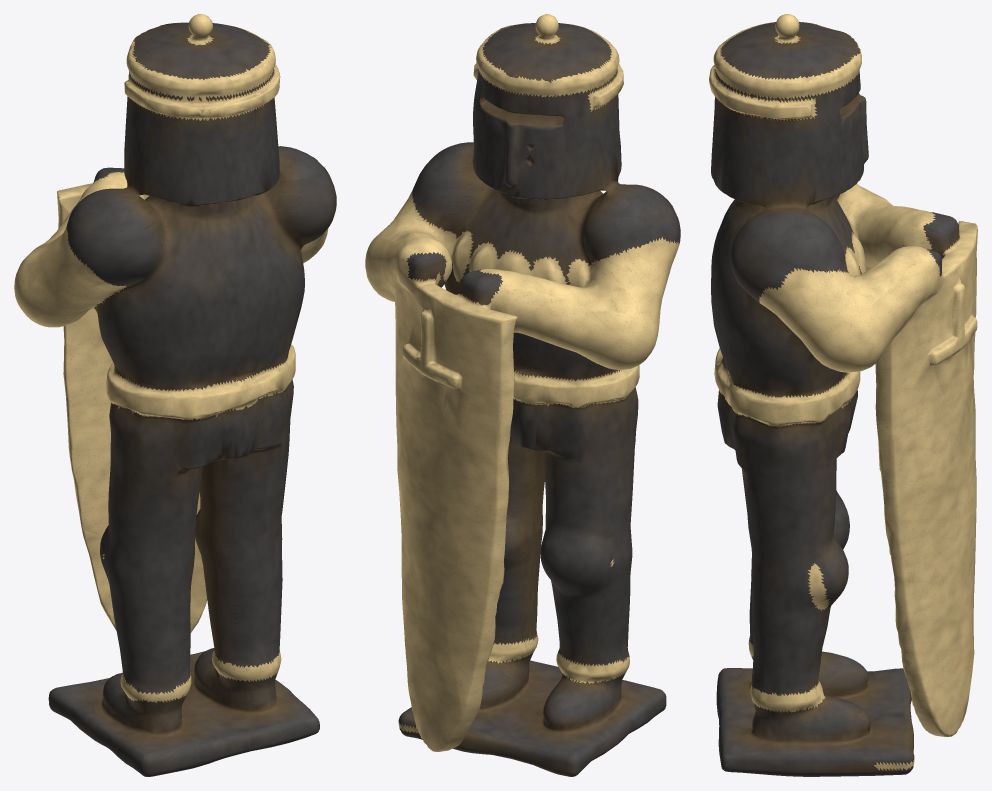
The model's file is knight-black-hd.glb.
3 views of the same model, side by side, from view 1: azimuth 30°, elevation 25°; view 2: azimuth 150°, elevation 25°; view 3: azimuth 270°, elevation 25° (orthographic). The views are drawn at different scales.
Parts seen in each view (by area): view 1: Argent Reliquary – Black Knight; view 2: Argent Reliquary – Black Knight; view 3: Argent Reliquary – Black Knight.
Part boxes in pixels (bbox=[...]): Argent Reliquary – Black Knight: bbox=[14, 14, 336, 776]; Argent Reliquary – Black Knight: bbox=[365, 14, 680, 776]; Argent Reliquary – Black Knight: bbox=[709, 14, 977, 776].
Bounding box in the file's own units: 0.5546 × 1.29 × 0.4365.
Materials: 2 (2 with a texture image).
